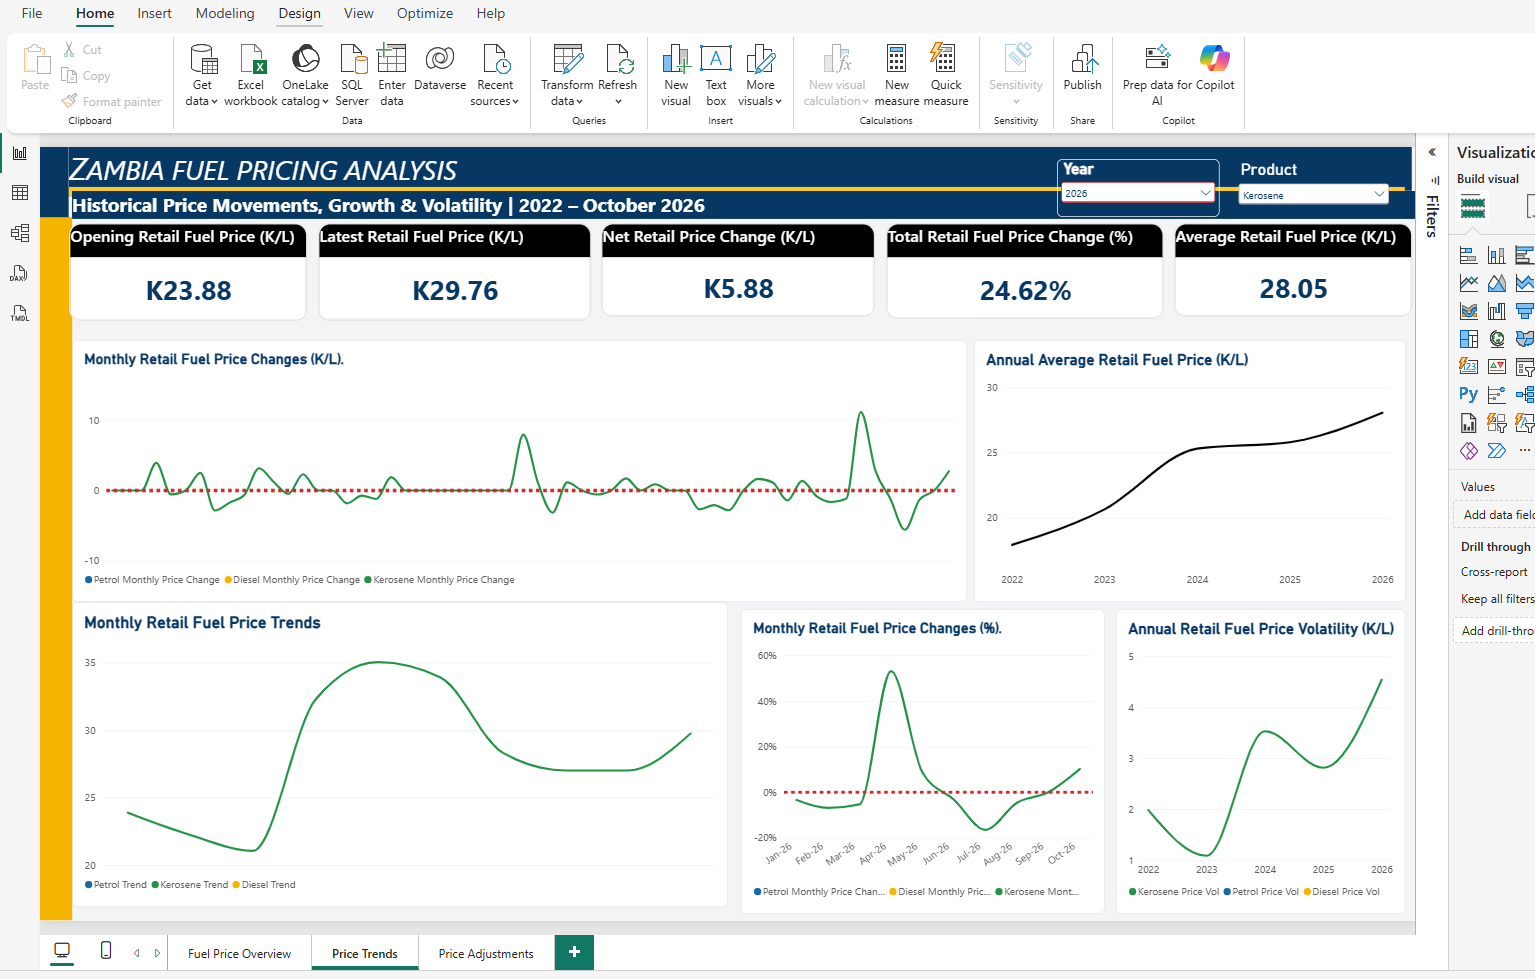

The dashboard page shown, as its layout file describes it:
{"tool":"powerbi","page":{"name":"Price Trends ","canvas":[1920,1080],"ordinal":1},"visuals":[{"type":"textbox","box":[40.5,0,1875.3,61.4],"z":0},{"type":"cardVisual","title":"Opening Retail Fuel Price (K/L)","fields":{"Data":["_Measures.Opening Fuel Price"]},"box":[40.5,106.1,332.6,137.4],"z":0,"group":"g1"},{"type":"shape","box":[9.8,41.9,1896.1,41.7],"z":1000},{"type":"cardVisual","title":"Latest Retail Fuel Price (K/L)","fields":{"Data":["_Measures.Latest Fuel Price"]},"box":[387.6,106.5,381.5,136.8],"z":1000,"group":"g1"},{"type":"textbox","box":[44.4,61.9,1875.9,39.1],"z":2000},{"type":"cardVisual","title":"Net Retail Price Change (K/L)","fields":{"Data":["_Measures.Net Fuel Price Change"]},"box":[784,106.5,382.9,131.3],"z":2000,"group":"g1"},{"type":"slicer","title":"YEAR","fields":{"Values":["Date Table.Year"]},"box":[1420.7,16.2,226.9,80.8],"z":3000},{"type":"cardVisual","title":"Total Retail Fuel Price Change (%)","fields":{"Data":["_Measures.Total Fuel Price Change (%)"]},"box":[1180.7,106.5,388.4,134.1],"z":3000,"group":"g1"},{"type":"slicer","fields":{"Values":["Fuel Products.Product"]},"box":[1668.5,17.5,219.8,87.9],"z":4000},{"type":"cardVisual","title":"Average Retail Fuel Price (K/L)","fields":{"Data":["_Measures.Average Fuel Price"]},"box":[1582.9,106.5,333.1,131.3],"z":4000,"group":"g1"},{"type":"lineChart","title":"Monthly Retail Fuel Price Trends","fields":{"Category":["Date Table.Month-Year"],"Y":["_Measures.Petrol Trend","_Measures.Kerosene Trend","_Measures.Diesel Trend"]},"box":[44.7,635.3,915.7,425.5],"z":5000},{"type":"lineChart","title":"Annual Average Retail Fuel Price (K/L)","fields":{"Category":["Date Table.Year"],"Y":["_Measures.Average Fuel Price"]},"box":[1303.5,269.3,603.3,366.3],"z":6000},{"type":"lineChart","title":"Monthly Retail Fuel Price Changes (K/L).","fields":{"Category":["Date Table.Month-Year"],"Y":["_Measures.Petrol Monthly Price Change","_Measures.Diesel Monthly Price Change","_Measures.Kerosene Monthly Price Change"]},"box":[44.4,269.3,1249.7,366.3],"z":7000},{"type":"lineChart","title":"Monthly Retail Fuel Price Changes (%).","fields":{"Category":["Date Table.Month-Year"],"Y":["_Measures.Petrol Monthly Price Change (%)","_Measures.Diesel Monthly Price Change (%)","_Measures.Kerosene Monthly Price Change (%)"]},"box":[979,645,507.7,425.5],"z":8000},{"type":"lineChart","title":"Annual Retail Fuel Price Volatility (K/L)","fields":{"Category":["Date Table.Year"],"Y":["_Measures.Kerosene Price Volatility","_Measures.Petrol Price Volatility","_Measures.Diesel Price Volatility"]},"box":[1502.8,645,404,425.5],"z":9000},{"type":"textbox","box":[0,97.7,44.7,981.6],"z":10000},{"type":"group","id":"g1","title":"Group 1","box":[40.5,106.1,1875.3,136.8],"z":11000},{"type":"textbox","box":[0,0,40.5,97.7],"z":12000}]}

Visuals, with their boxes on the page's 1920x1080 design canvas (x1, y1, x2, y2). These are canvas units, not pixel positions in the 1535x979 screenshot, which may show the page scaled, cropped or inside an application window:
textbox: Rect(40, 0, 1916, 61)
"Opening Retail Fuel Price (K/L)" cardVisual: Rect(40, 106, 373, 244)
shape: Rect(10, 42, 1906, 84)
"Latest Retail Fuel Price (K/L)" cardVisual: Rect(388, 106, 769, 243)
textbox: Rect(44, 62, 1920, 101)
"Net Retail Price Change (K/L)" cardVisual: Rect(784, 106, 1167, 238)
"YEAR" slicer: Rect(1421, 16, 1648, 97)
"Total Retail Fuel Price Change (%)" cardVisual: Rect(1181, 106, 1569, 241)
slicer - Fuel Products.Product: Rect(1668, 18, 1888, 105)
"Average Retail Fuel Price (K/L)" cardVisual: Rect(1583, 106, 1916, 238)
"Monthly Retail Fuel Price Trends" lineChart: Rect(45, 635, 960, 1061)
"Annual Average Retail Fuel Price (K/L)" lineChart: Rect(1304, 269, 1907, 636)
"Monthly Retail Fuel Price Changes (K/L)." lineChart: Rect(44, 269, 1294, 636)
"Monthly Retail Fuel Price Changes (%)." lineChart: Rect(979, 645, 1487, 1070)
"Annual Retail Fuel Price Volatility (K/L)" lineChart: Rect(1503, 645, 1907, 1070)
textbox: Rect(0, 98, 45, 1079)
"Group 1" group: Rect(40, 106, 1916, 243)
textbox: Rect(0, 0, 40, 98)
